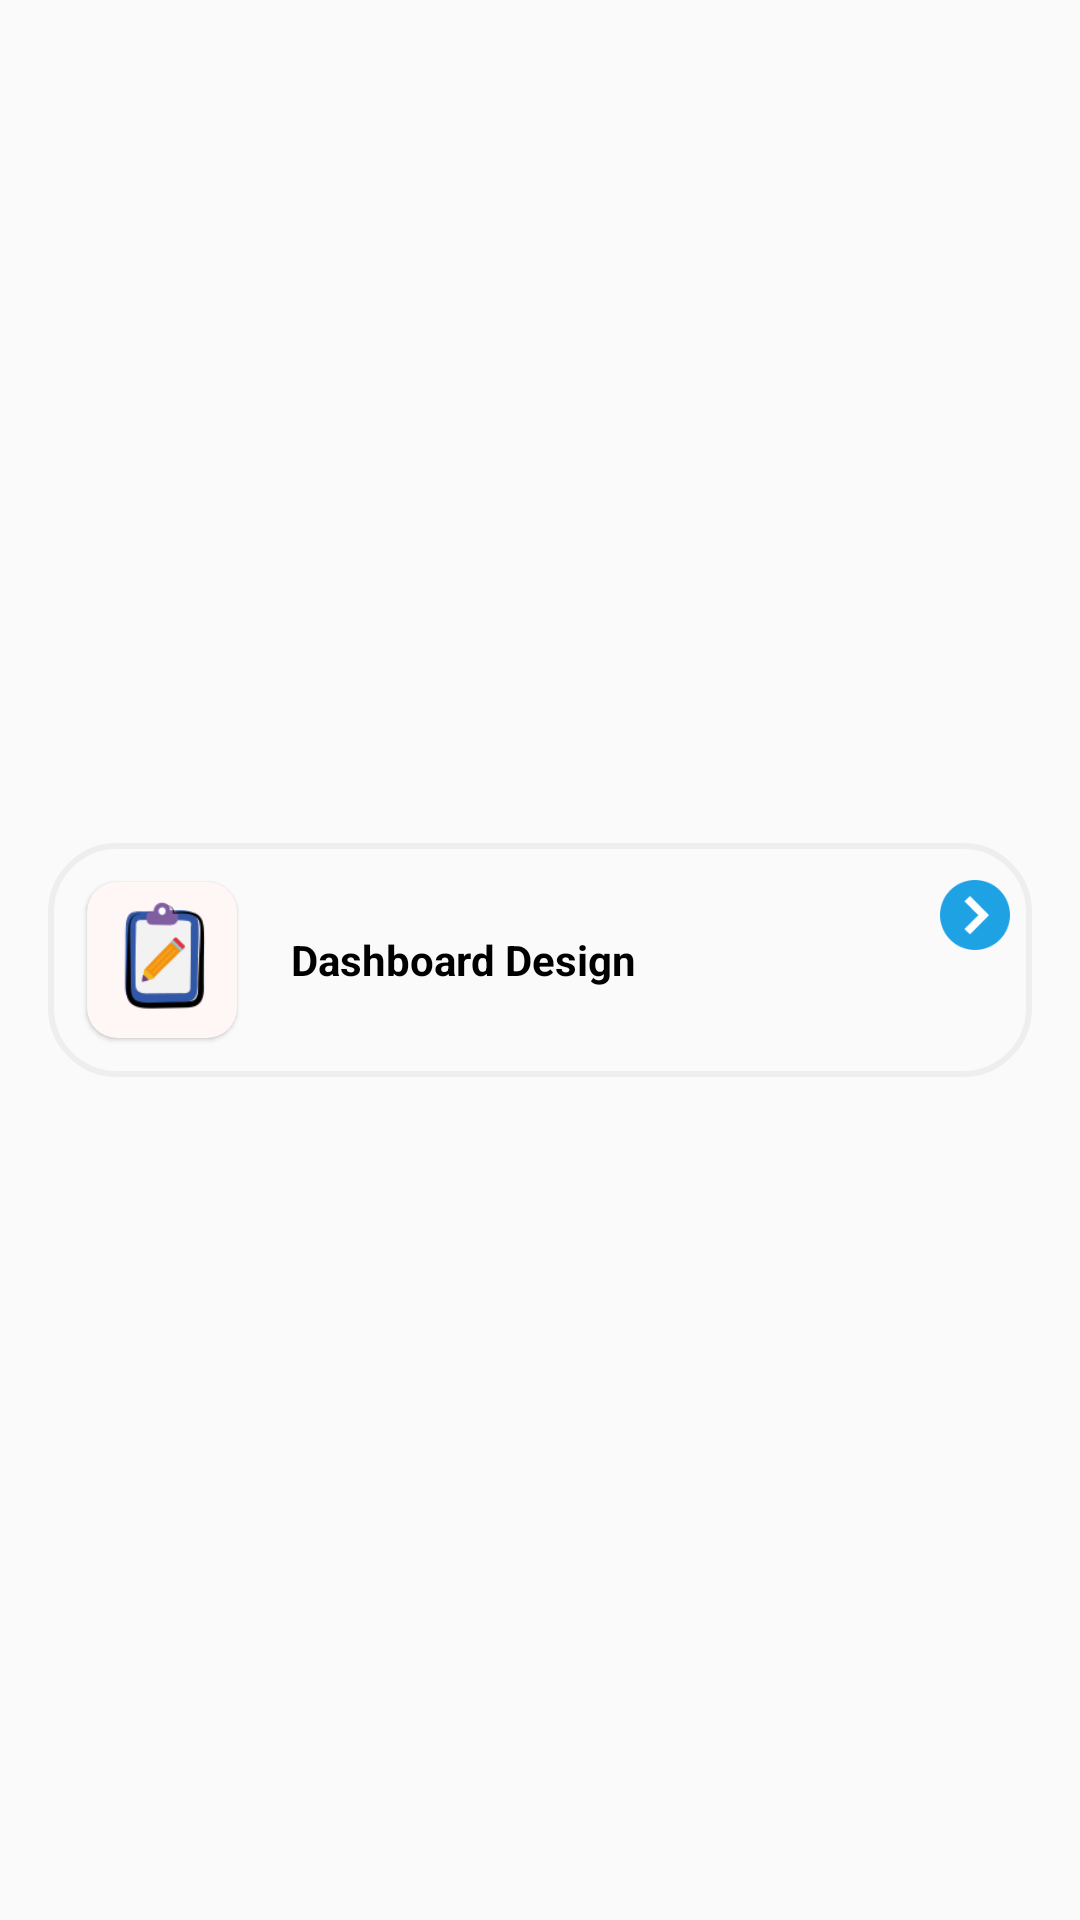

Screen size 1080x1920. Icon name, then its center in pixels as (x=x, y=y):
detail task: (x=975, y=915)
task exemple: (x=164, y=955)
